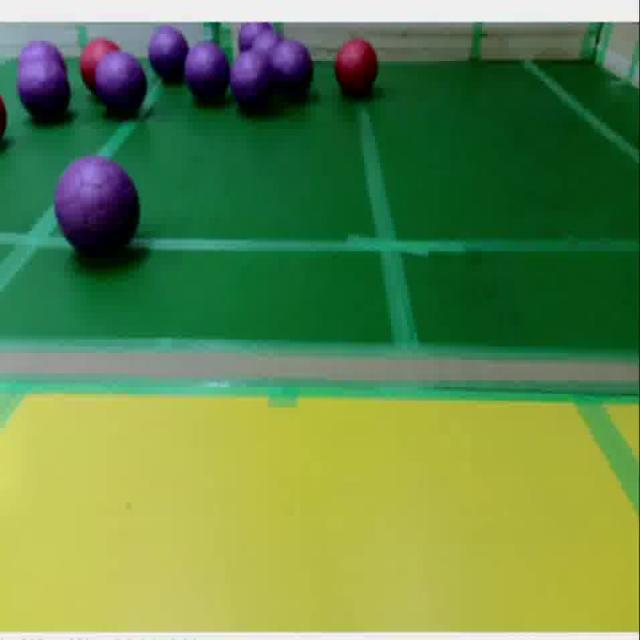purple_ball: (54, 160, 138, 264), (16, 57, 72, 124), (99, 59, 148, 118), (271, 42, 317, 104), (185, 44, 231, 103), (233, 52, 277, 112), (149, 27, 189, 85), (20, 40, 66, 64), (240, 25, 274, 50), (254, 30, 288, 53)
red_ball: (333, 37, 382, 98), (76, 36, 96, 91)
